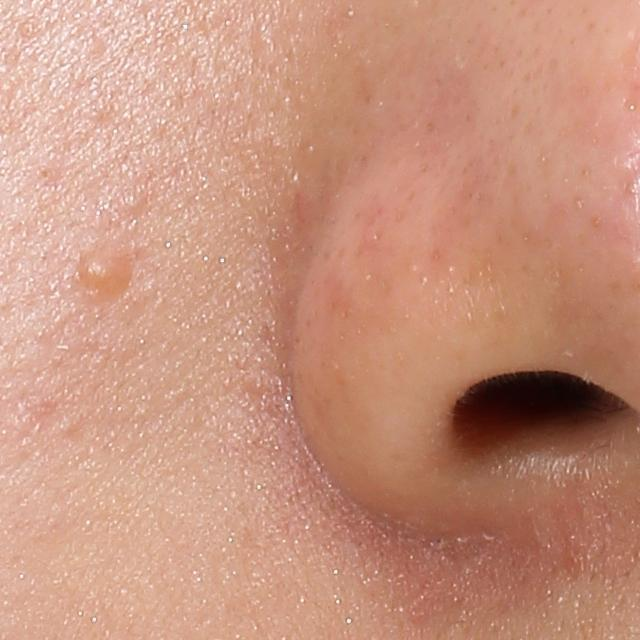comedo: (121, 188, 143, 211)
